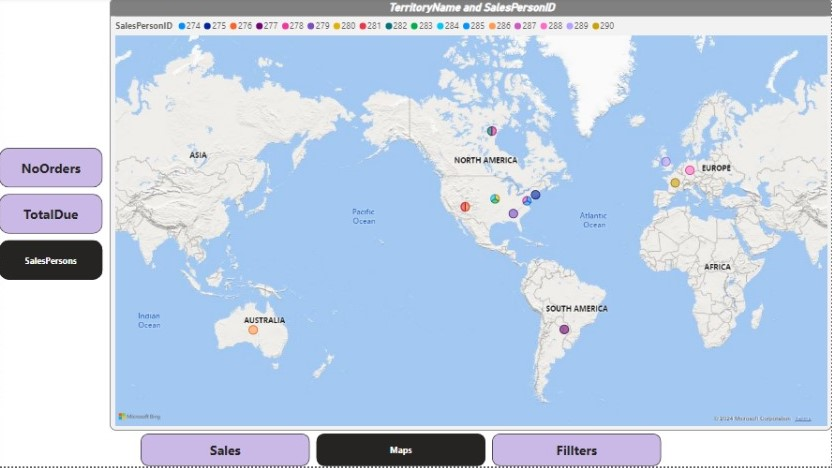

Layout of this report page (visuals, bound fields, positions):
{"tool":"powerbi","page":{"name":"Maps","canvas":[1280,720],"ordinal":2},"visuals":[{"type":"pageNavigator","box":[217.4,669.6,800.6,50.4],"z":0},{"type":"map","fields":{"Category":["Territory.CountryRegionCode"],"Series":["Territory.TerritoryName"],"Size":["OrderDetail.No Orders"]},"box":[169.9,0,1110.2,665.3],"z":2000},{"type":"bookmarkNavigator","box":[0,230.4,159.8,204.5],"z":4000}]}

Visuals, with their boxes in screenshot pixels (x1, y1, x2, y2), scaled from the page's 1280x720 canvas onto the 832x468 screenshot:
pageNavigator: box(141, 435, 662, 467)
map - Territory.CountryRegionCode x Territory.TerritoryName: box(110, 0, 831, 432)
bookmarkNavigator: box(0, 150, 104, 283)
